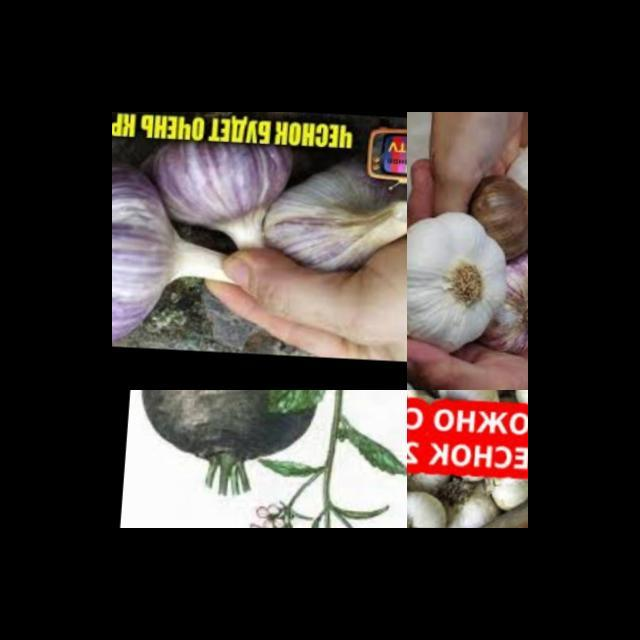garlic: (142, 128, 313, 245), (248, 156, 407, 274), (112, 150, 205, 349), (407, 201, 518, 351), (407, 423, 528, 528), (467, 164, 528, 261), (485, 234, 528, 359)
